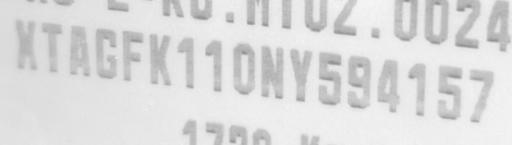letter: (434, 62, 466, 121), (466, 66, 496, 125), (374, 55, 402, 114), (146, 31, 174, 88), (258, 43, 286, 100), (315, 50, 343, 107), (345, 52, 373, 109), (230, 40, 256, 99), (288, 46, 314, 105), (66, 20, 92, 77), (93, 24, 119, 81), (120, 27, 146, 84), (12, 16, 38, 72), (40, 20, 64, 73), (406, 60, 428, 117), (202, 38, 224, 93), (175, 34, 195, 89)
